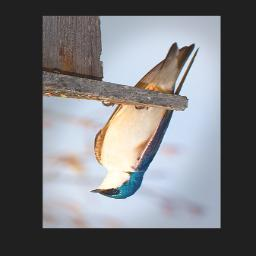Swallow: (90, 42, 201, 200)
